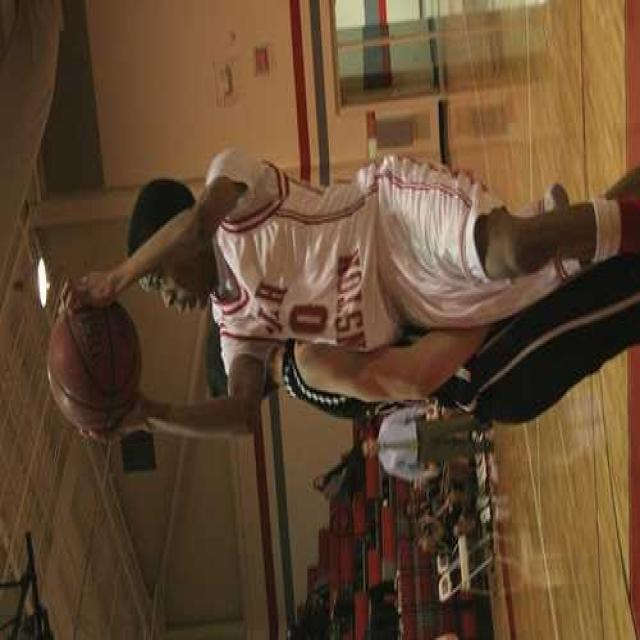Ball: (46, 302, 142, 429)
